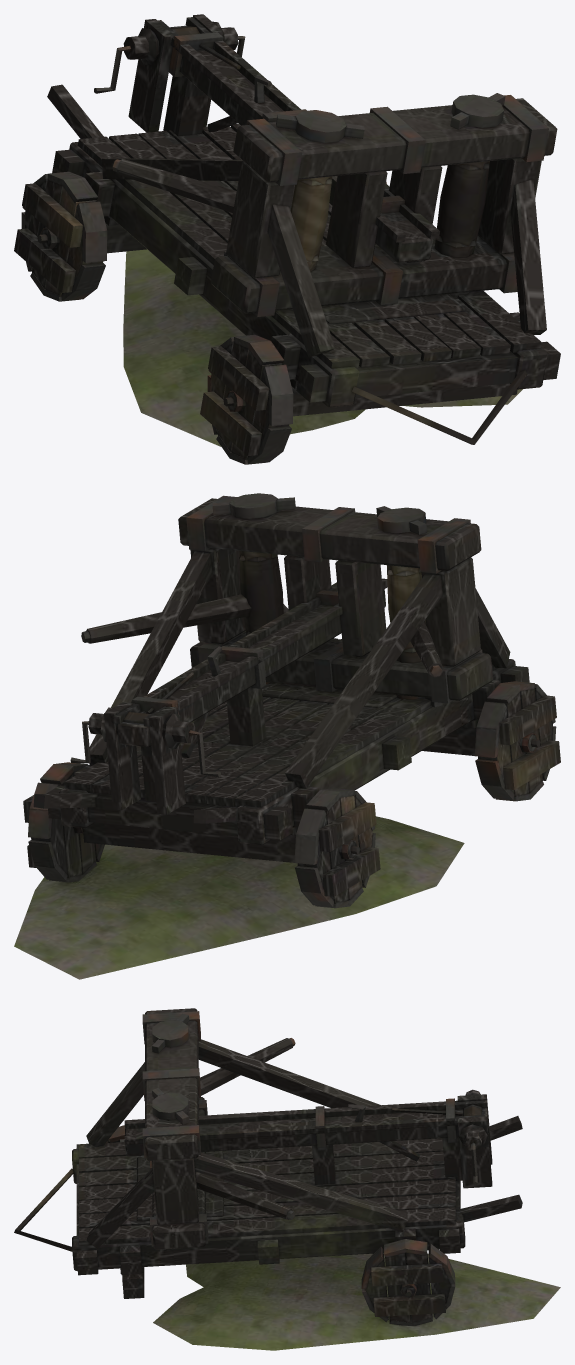
Rendered from springald_burnt.glb.
The picture shows the model from 3 angles, top to bottom: view 1: azimuth 30°, elevation 25°; view 2: azimuth 150°, elevation 25°; view 3: azimuth 270°, elevation 25°; orthographic projection. The views are drawn at different scales.
Parts seen in each view (by area): view 1: body_LOD0; view 2: body_LOD0; view 3: body_LOD0.
Boxes of the visible parts, left/top/right/bottom form: body_LOD0: left=14, top=14, right=560, bottom=464; body_LOD0: left=14, top=493, right=560, bottom=979; body_LOD0: left=14, top=1008, right=560, bottom=1350.
Size of what is drawn, in the model's own units: 2.23 by 1.78 by 3.77.
1 material, 1 textured.
